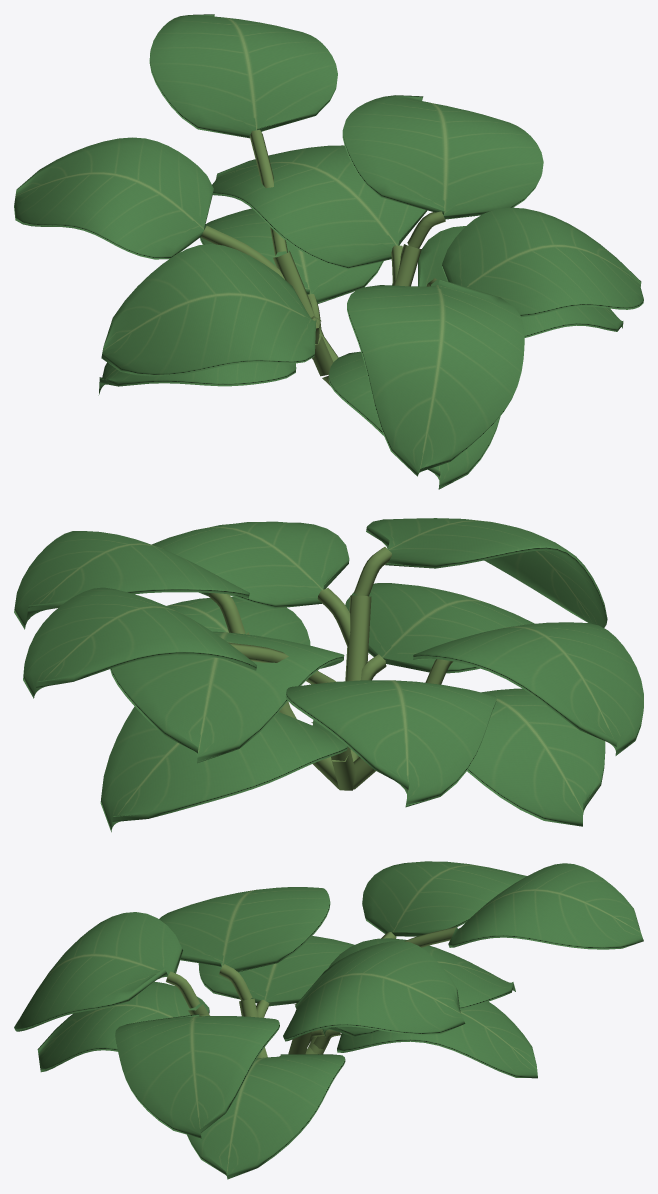
File: peperomia-stage-3.glb
3 views of the same model, one above another, from view 1: azimuth 30°, elevation 25°; view 2: azimuth 150°, elevation 25°; view 3: azimuth 270°, elevation 25° (orthographic). The views are drawn at different scales.
Visible parts, largest first — view 1: Leaf_8, Leaf_7, Leaf_9, Leaf_10, Leaf_6, Leaf_4, Leaf_5, PlantBranches, Leaf_2, Leaf_0, Leaf_1, Leaf_3; view 2: Leaf_6, Leaf_5, Leaf_7, Leaf_2, Leaf_10, Leaf_3, Leaf_8, Leaf_4, Leaf_9, Leaf_0, PlantBranches, Leaf_1; view 3: Leaf_4, Leaf_9, Leaf_10, Leaf_8, Leaf_1, Leaf_7, Leaf_6, Leaf_2, Leaf_0, Leaf_3, PlantBranches, Leaf_5.
Boxes of the visible parts, x1,y1,x2,y2 form: Leaf_8: (347, 279, 524, 476); Leaf_7: (101, 244, 316, 376); Leaf_9: (342, 95, 543, 219); Leaf_10: (149, 14, 337, 138); Leaf_6: (14, 137, 213, 259); Leaf_4: (442, 207, 643, 317); Leaf_5: (212, 145, 427, 269); PlantBranches: (201, 129, 445, 385); Leaf_2: (200, 208, 383, 303); Leaf_0: (328, 351, 500, 489); Leaf_1: (418, 226, 623, 337); Leaf_3: (98, 362, 296, 395); Leaf_6: (285, 680, 496, 807); Leaf_5: (110, 631, 344, 763); Leaf_7: (413, 622, 643, 755); Leaf_2: (100, 706, 347, 832); Leaf_10: (23, 587, 256, 698); Leaf_3: (467, 688, 605, 826); Leaf_8: (366, 518, 607, 627); Leaf_4: (152, 521, 349, 608); Leaf_9: (14, 531, 249, 629); Leaf_0: (345, 583, 534, 673); PlantBranches: (208, 547, 453, 790); Leaf_1: (167, 597, 310, 645); Leaf_4: (115, 1014, 279, 1138); Leaf_9: (283, 941, 465, 1041); Leaf_10: (448, 863, 643, 949); Leaf_8: (14, 912, 183, 1031); Leaf_1: (187, 1054, 345, 1179); Leaf_7: (159, 887, 330, 971); Leaf_6: (362, 861, 526, 936); Leaf_2: (337, 1001, 537, 1078); Leaf_0: (37, 981, 209, 1072); Leaf_3: (198, 936, 354, 1006); PlantBranches: (166, 926, 457, 1058); Leaf_5: (322, 938, 515, 1037).
Bounding box in the file's own units: 1.44 × 0.7243 × 1.79.
2 materials, 1 textured.
